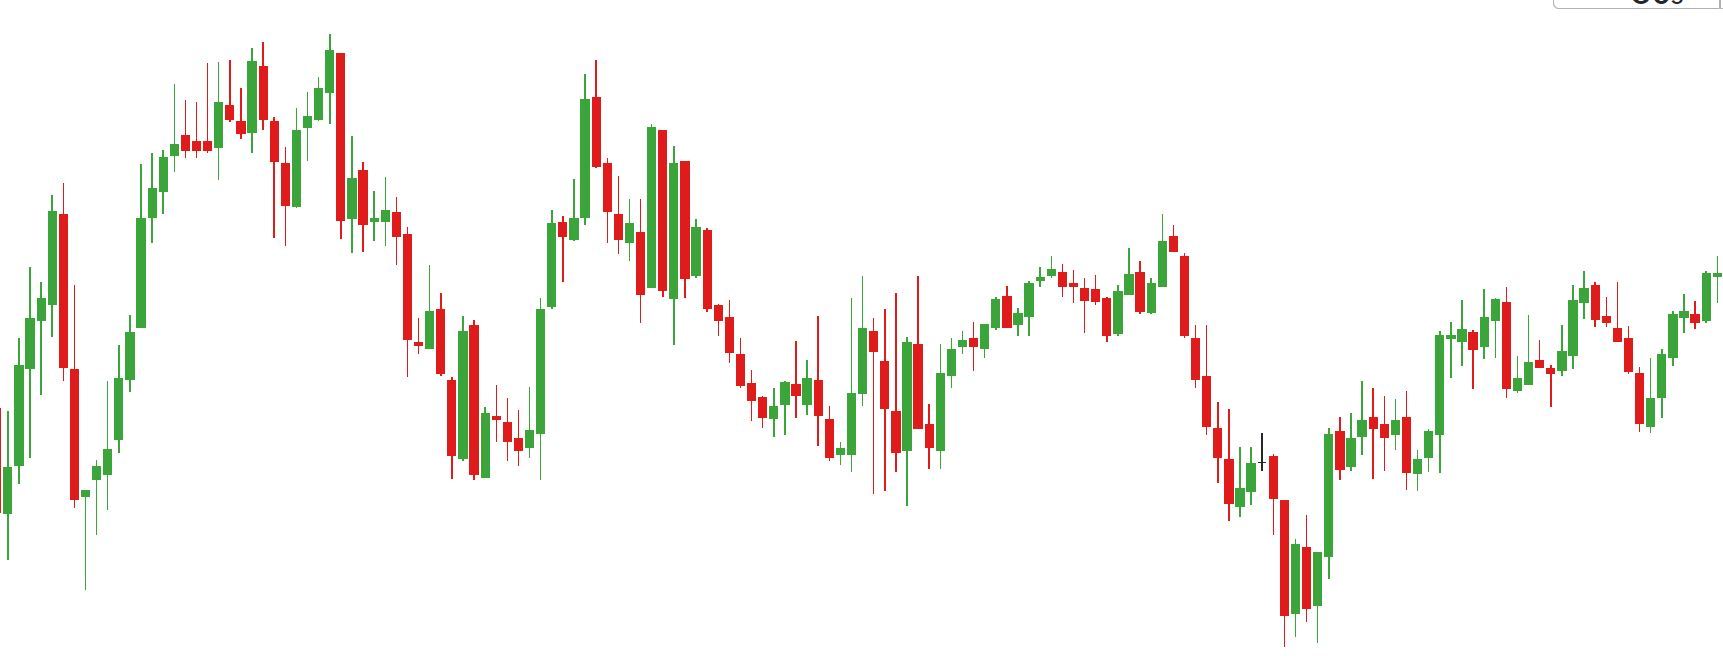buy: (2, 285, 91, 600), (1545, 357, 1658, 437)
sell: (244, 35, 349, 144), (1477, 271, 1602, 348)
